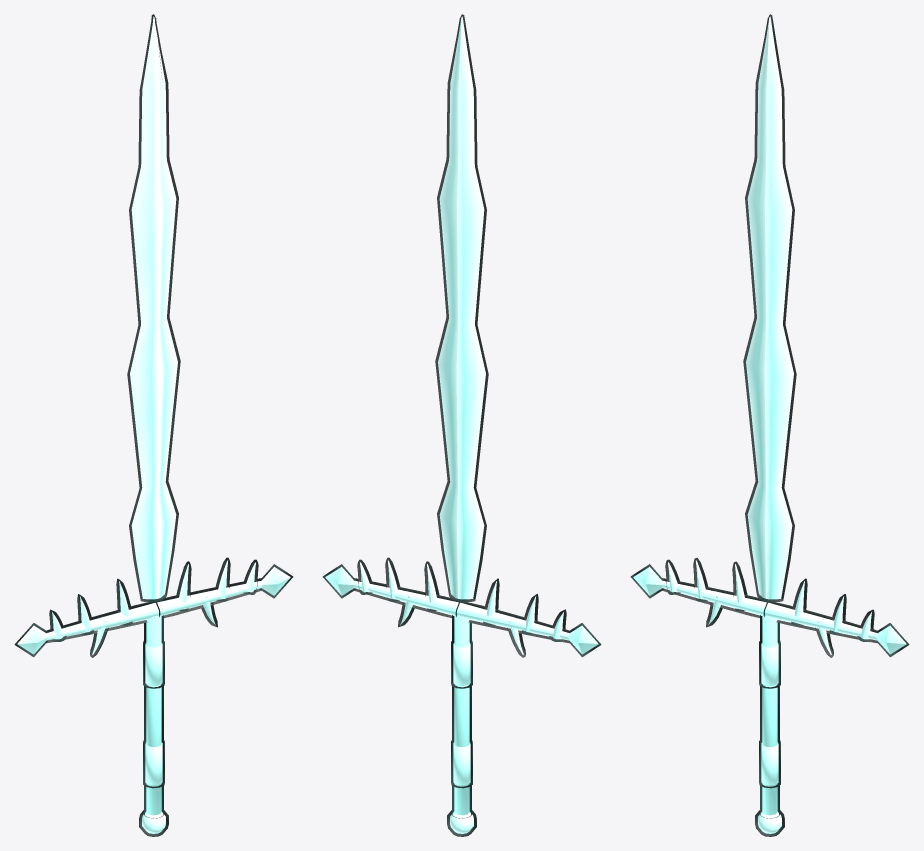
Rendered from w_crystal_frost.glb.
3 views of the same model, side by side, from view 1: azimuth 30°, elevation 25°; view 2: azimuth 150°, elevation 25°; view 3: azimuth 330°, elevation 25° (orthographic).
Parts seen in each view (by area): view 1: Weapon_0, Outline; view 2: Weapon_0, Outline; view 3: Weapon_0, Outline.
Part boxes in pixels (x1,y1,x2,y2): Weapon_0: (17, 16, 290, 833); Outline: (14, 14, 293, 836); Weapon_0: (325, 16, 598, 833); Outline: (322, 14, 601, 836); Weapon_0: (633, 16, 906, 833); Outline: (630, 14, 909, 836).
Size of the model in its own units: 0.4996 by 1.4 by 0.0472.
